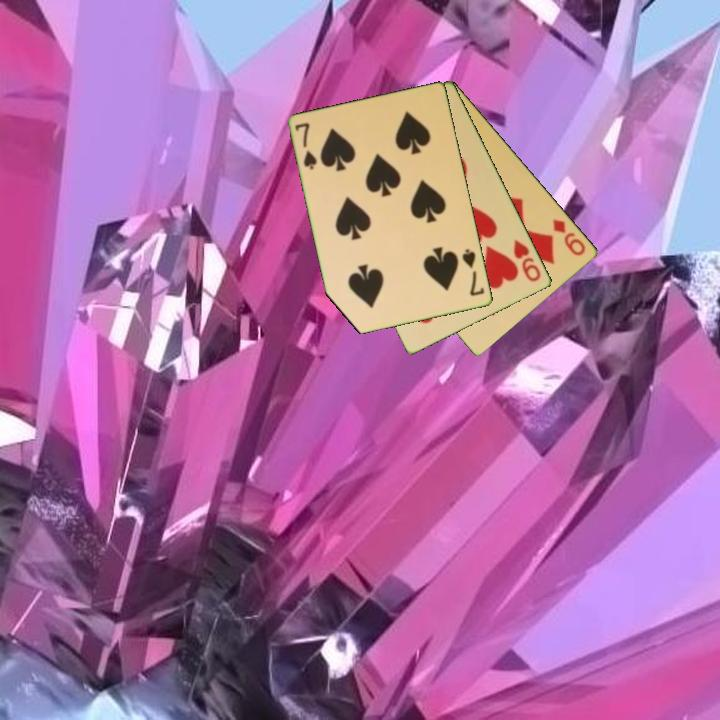7s: (459, 246, 488, 299), (292, 119, 320, 173)
9d: (549, 215, 589, 259)
9h: (510, 236, 544, 285)
